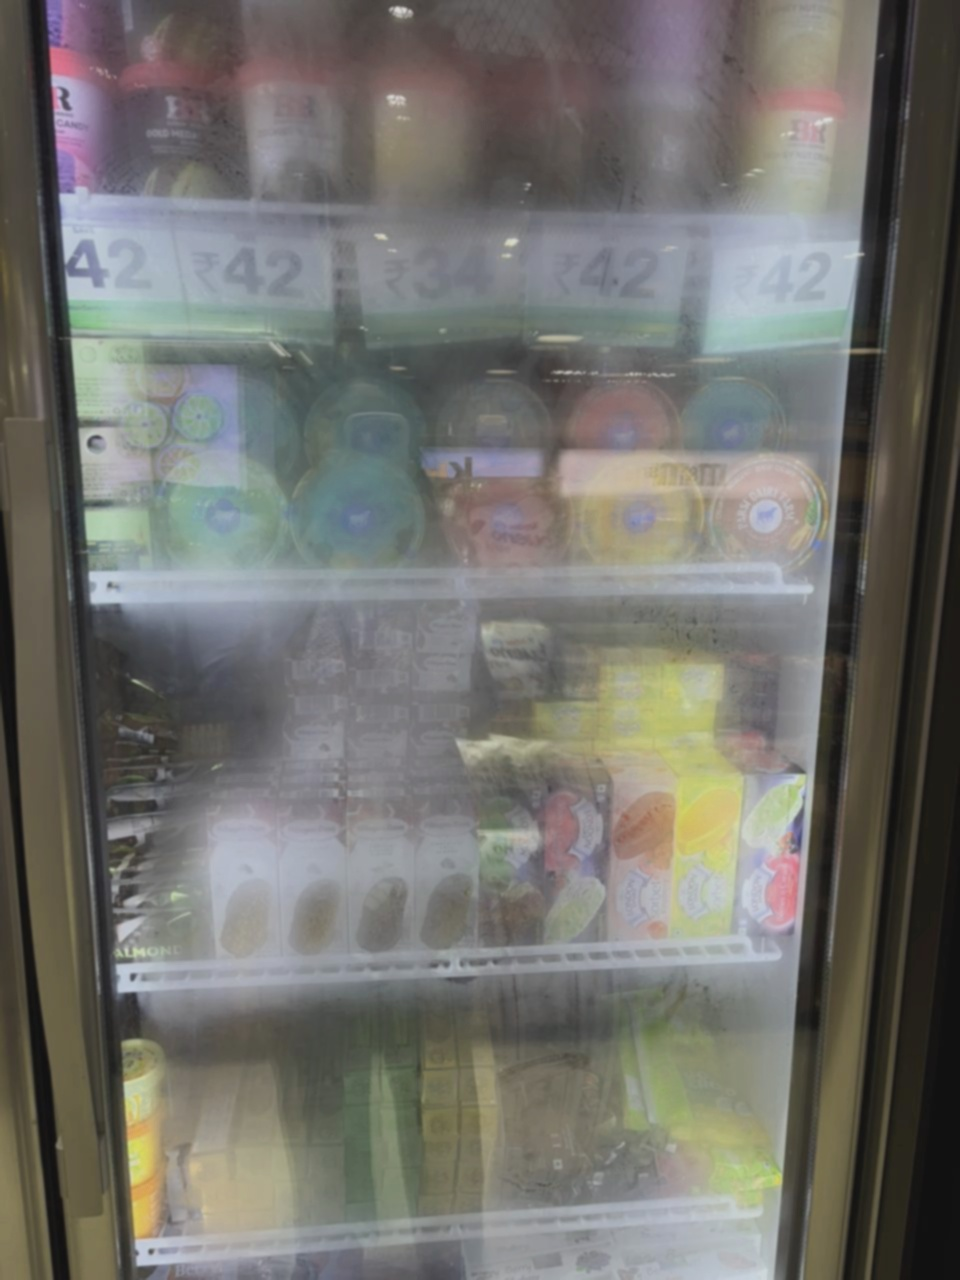Haagen-Dazs IceCream Bars: (343, 795, 419, 967), (275, 797, 347, 973), (201, 803, 284, 953), (410, 795, 482, 961)
